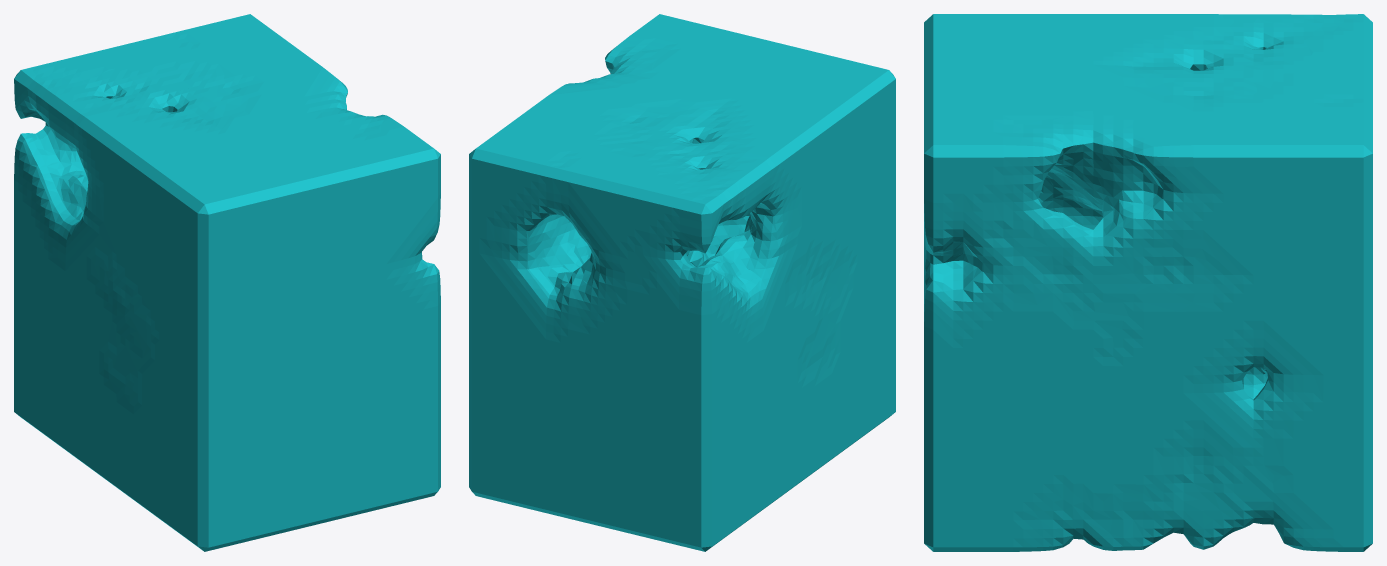
3 views of the same model, side by side, from view 1: azimuth 30°, elevation 25°; view 2: azimuth 150°, elevation 25°; view 3: azimuth 270°, elevation 25° (orthographic). The views are drawn at different scales.
Parts seen in each view (by area): view 1: Liquid_Domain; view 2: Liquid_Domain; view 3: Liquid_Domain.
Boxes of the visible parts, x1,y1,x2,y2 form: Liquid_Domain: [14, 14, 440, 551]; Liquid_Domain: [469, 14, 895, 551]; Liquid_Domain: [924, 14, 1372, 551].
Size of the model in its own units: 79.09 by 108 by 108.
